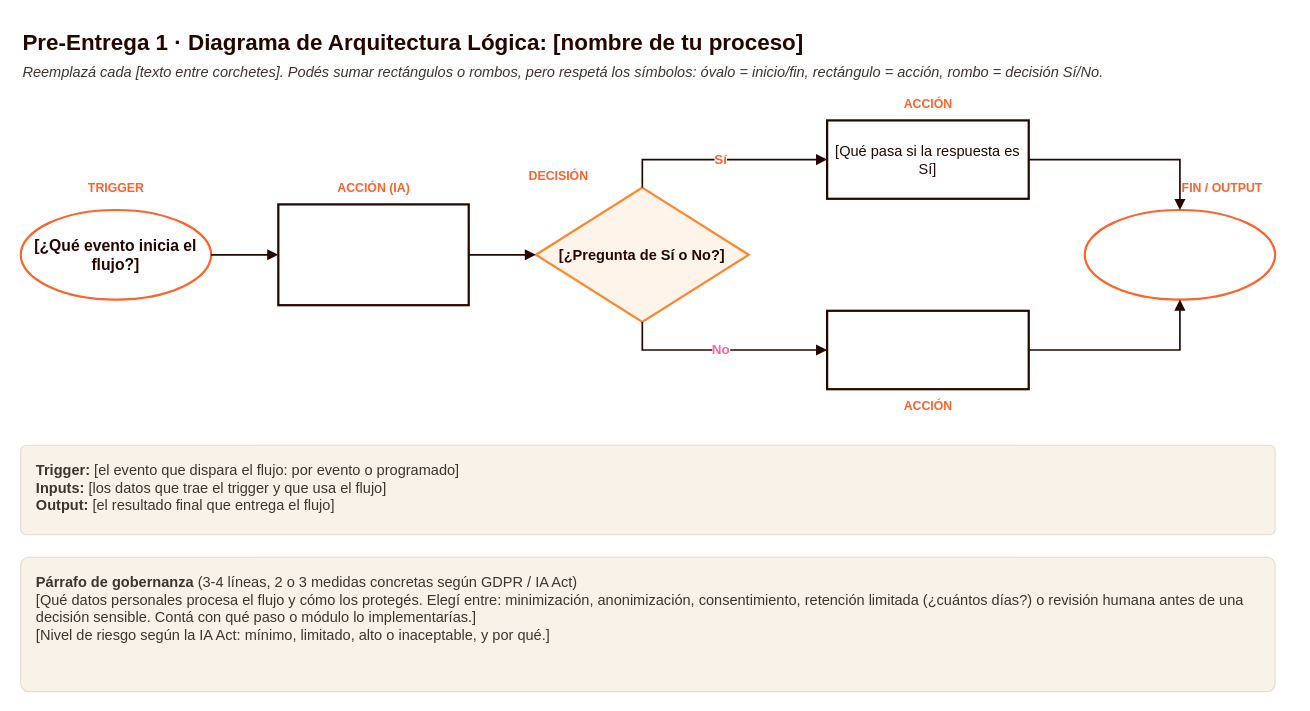
Some shapes in this 1310 by 711 pixel diagram are drawn without their labels. The centre of each missing label's shape, as x and y in pixels:
"[Qué pasa si la respuesta es No]" belongs at pixel 927 349.
"[¿Cuál es el resultado final?]" belongs at pixel 1179 254.
"[¿Qué hace la IA con los datos que llegan?]" belongs at pixel 373 254.
